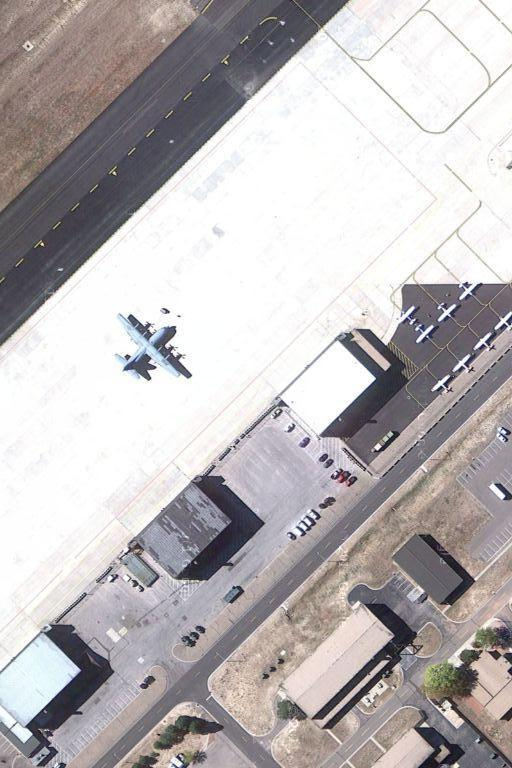C-130: (115, 311, 191, 382)
